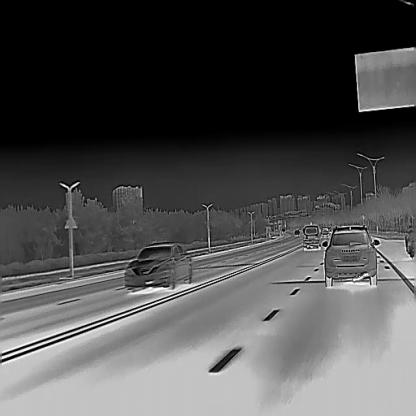car: (320, 224, 380, 287), (122, 239, 192, 291), (302, 224, 321, 249), (404, 223, 415, 256), (319, 227, 330, 237), (292, 228, 300, 236)
